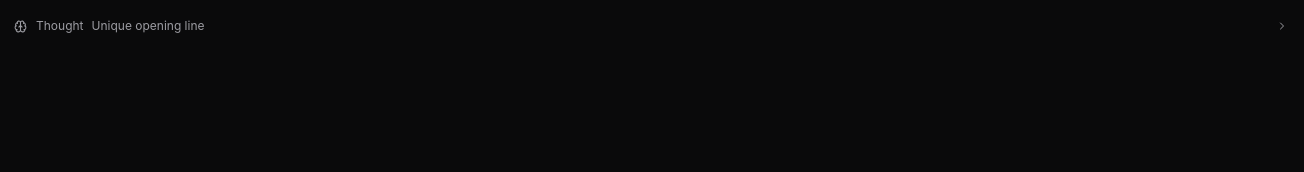
it: timeline edit and thought previews › shows the first thought line once when expanded
Expected: the text "More detail" is not shown
What coordinates should you click on to do the following:
click the button "Thought Unique opening line"
I would click on:
 (60, 26)
Its box is [36,12,1292,40].
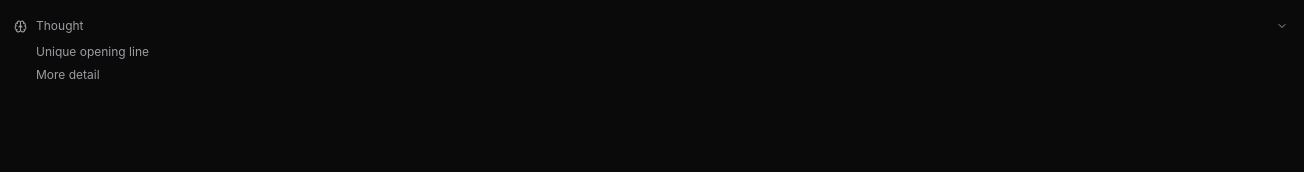
Expected: the text "Unique opening line" is shown once, [36,44,149,59]
Expected: the text with class "step-summary" is gone
Expected: the text "More detail" is shown, [36,67,100,82]
